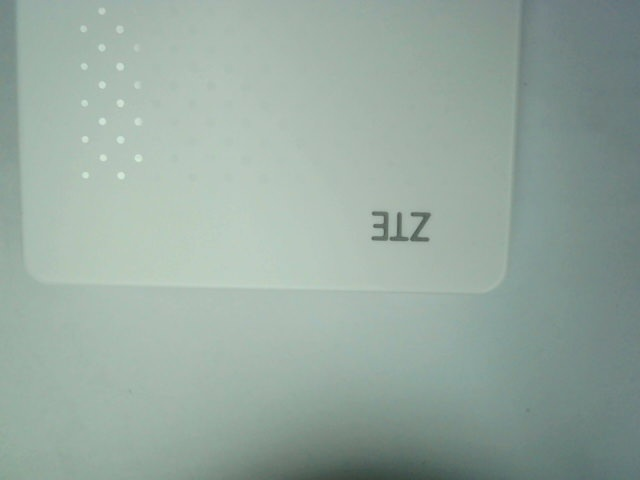AN_ZTE: (365, 206, 437, 244)
